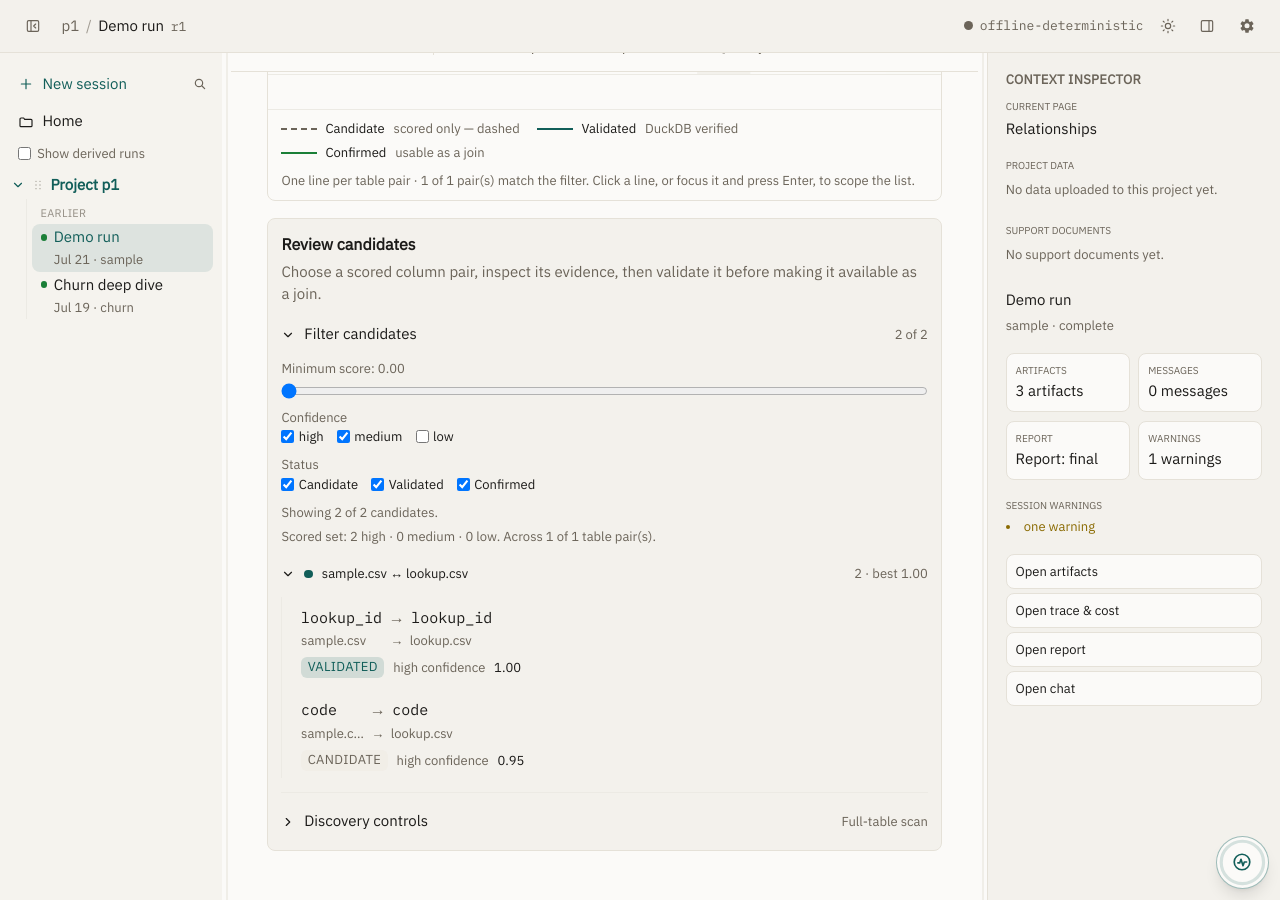
Test: Relationships page › shows the evidence of a validated edge in the Inspector
(page scrolled)
Click the button named "sample.csv.lookup_id → lookup.csv.lookup_id, high confidence, validated" at point(342, 617), box [291,597,928,686]
(page scrolled)
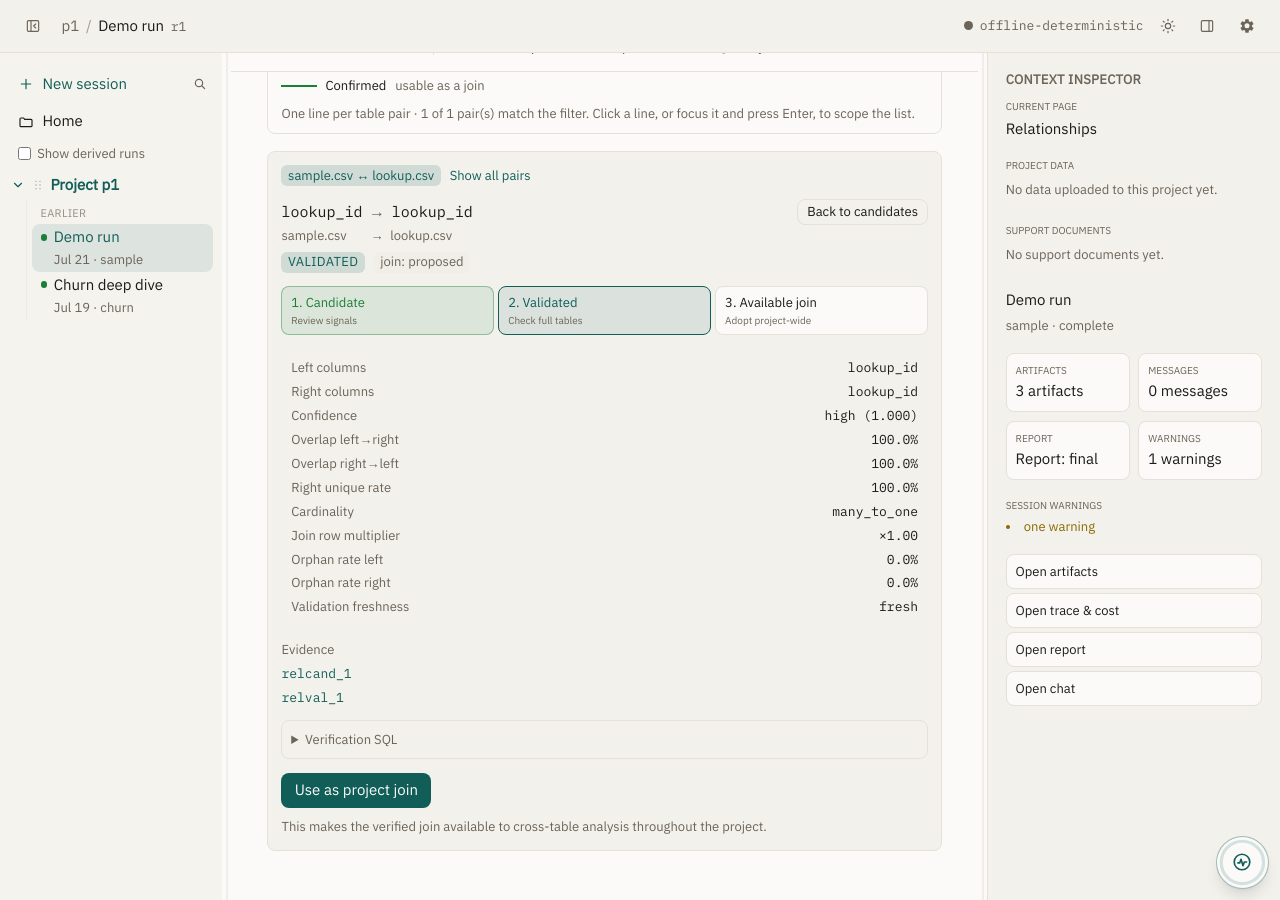
Expected: the text "Cardinality" is shown, [291,502,354,521]
Expected: the text "many_to_one" is shown, [832,502,918,521]
Expected: the text "Orphan rate left" is shown, [291,550,383,569]
